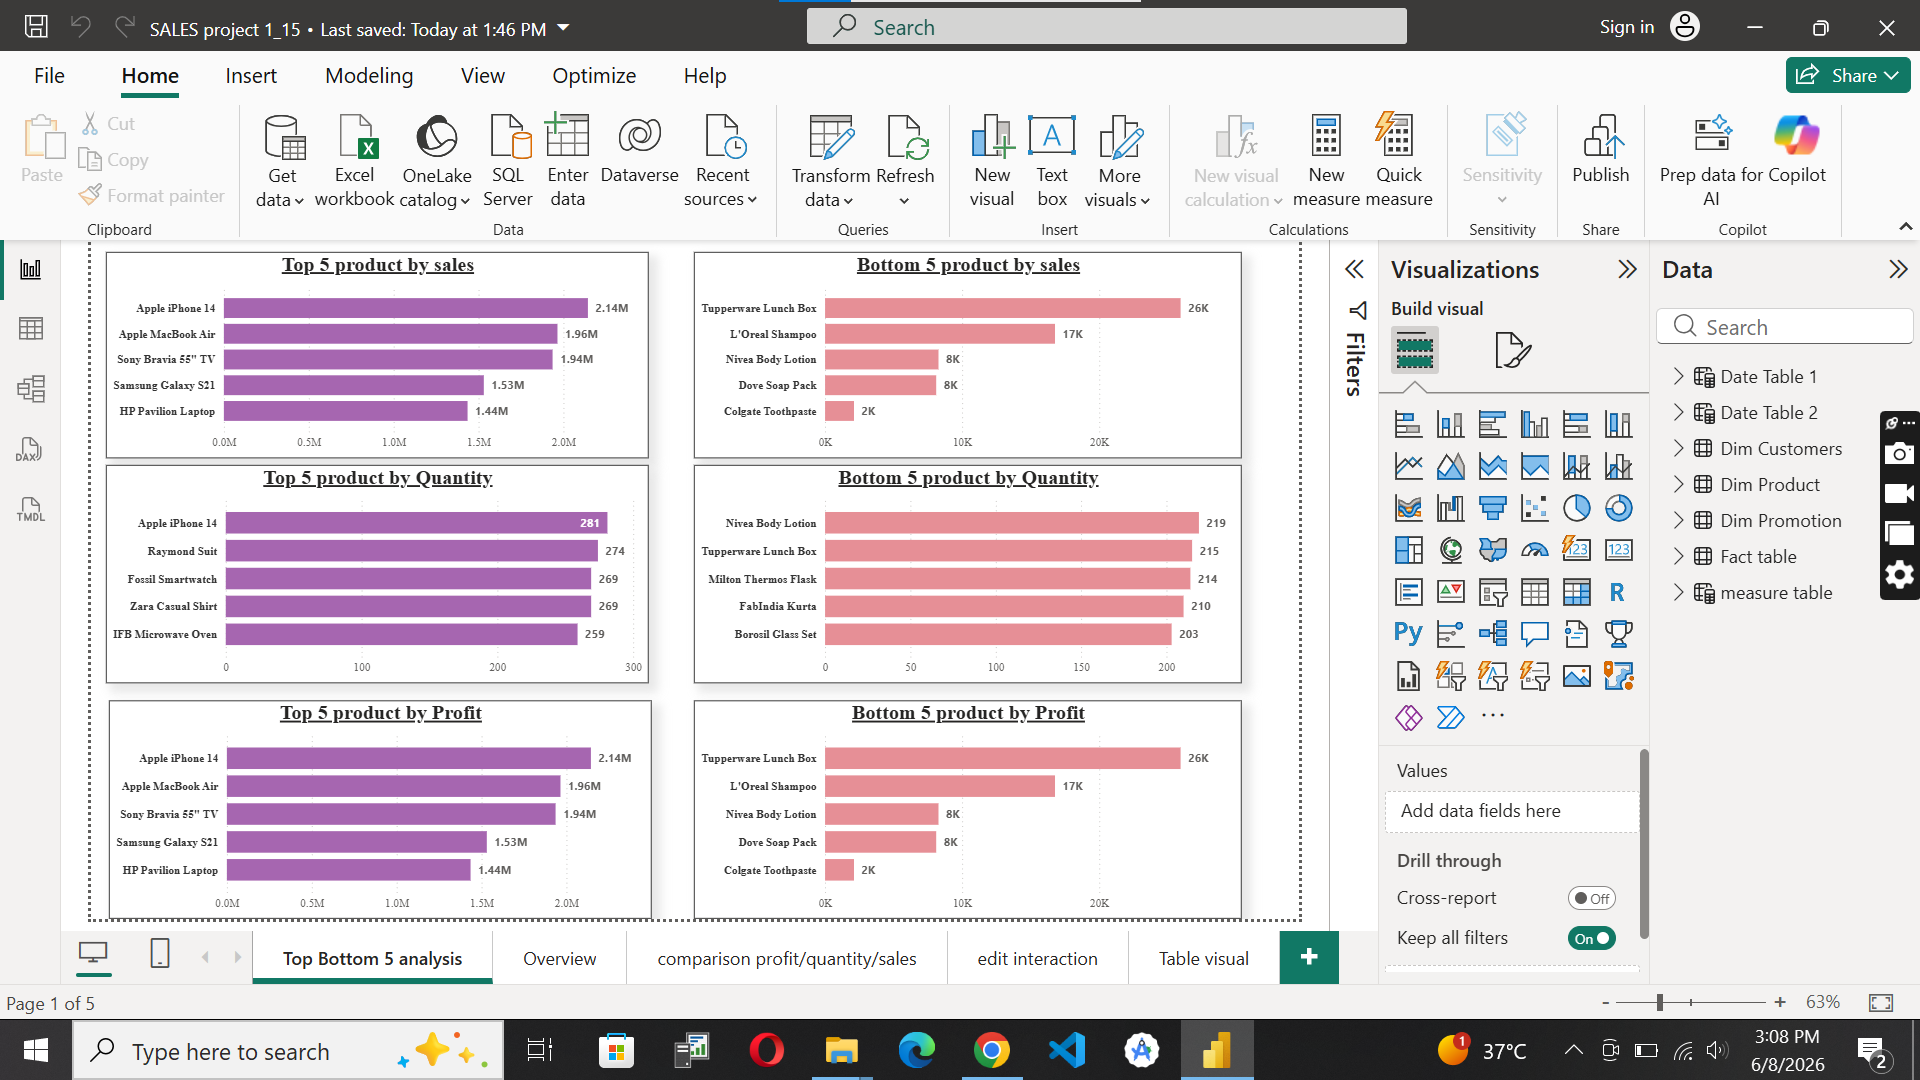

What the dashboard file says about the page in this screenshot:
{"tool":"powerbi","page":{"name":"Top Bottom 5 analysis","canvas":[1280,720],"ordinal":0},"visuals":[{"type":"barChart","title":"Top 5 product by sales","fields":{"Category":["Dim Product.Product Name"],"Y":["Sum(Fact table.profit)"]},"box":[16.5,12.9,575.4,218.7],"z":0},{"type":"barChart","title":"Bottom 5 product by sales","fields":{"Category":["Dim Product.Product Name"],"Y":["Sum(Fact table.profit)"]},"box":[639.7,12.9,580.9,218.7],"z":1000},{"type":"barChart","title":"Top 5 product by Quantity","fields":{"Category":["Dim Product.Product Name"],"Y":["Sum(Fact table.Units Sold)"]},"box":[16.5,239,575.4,231.6],"z":2000},{"type":"barChart","title":"Bottom 5 product by Quantity","fields":{"Category":["Dim Product.Product Name"],"Y":["Sum(Fact table.Units Sold)"]},"box":[639.7,239,580.9,231.6],"z":3000},{"type":"barChart","title":"Top 5 product by Profit","fields":{"Category":["Dim Product.Product Name"],"Y":["Sum(Fact table.profit)"]},"box":[18.4,489,575.4,231.6],"z":4000},{"type":"barChart","title":"Bottom 5 product by Profit","fields":{"Category":["Dim Product.Product Name"],"Y":["Sum(Fact table.profit)"]},"box":[639.7,489,580.9,231.6],"z":5000}]}

Visuals, with their boxes on the page's 1280x720 design canvas (x1, y1, x2, y2). These are canvas units, not pixel positions in the 1920x1080 screenshot, which may show the page scaled, cropped or inside an application window:
"Top 5 product by sales" barChart: <box>16,13,592,232</box>
"Bottom 5 product by sales" barChart: <box>640,13,1221,232</box>
"Top 5 product by Quantity" barChart: <box>16,239,592,471</box>
"Bottom 5 product by Quantity" barChart: <box>640,239,1221,471</box>
"Top 5 product by Profit" barChart: <box>18,489,594,721</box>
"Bottom 5 product by Profit" barChart: <box>640,489,1221,721</box>
